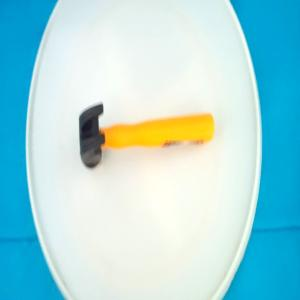martelo: (79, 102, 215, 168)
